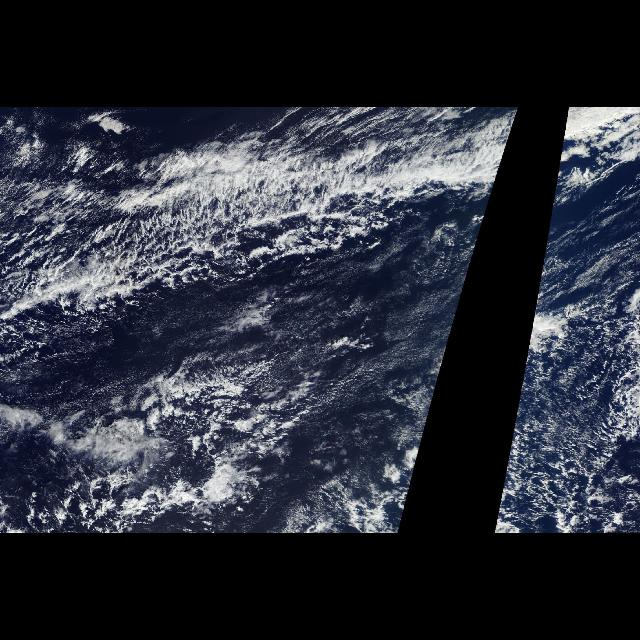Fish: (1, 107, 519, 313), (532, 107, 640, 313)
Gravel: (492, 311, 640, 533), (388, 319, 456, 533)
